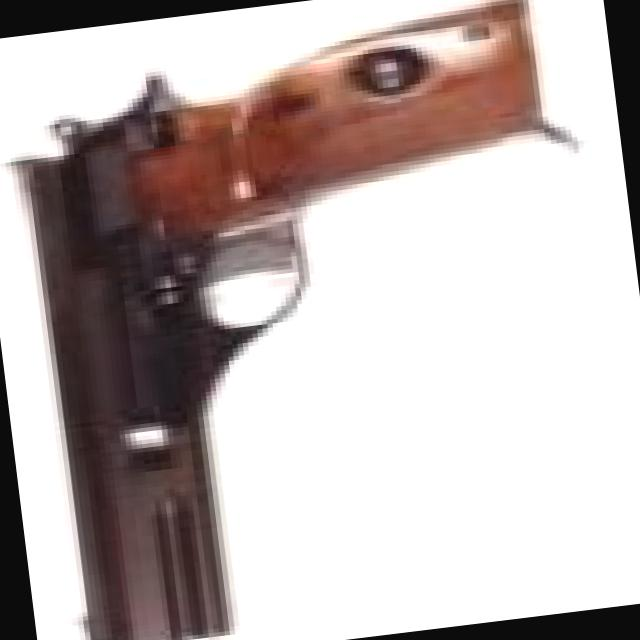handgun: (9, 0, 602, 639)
